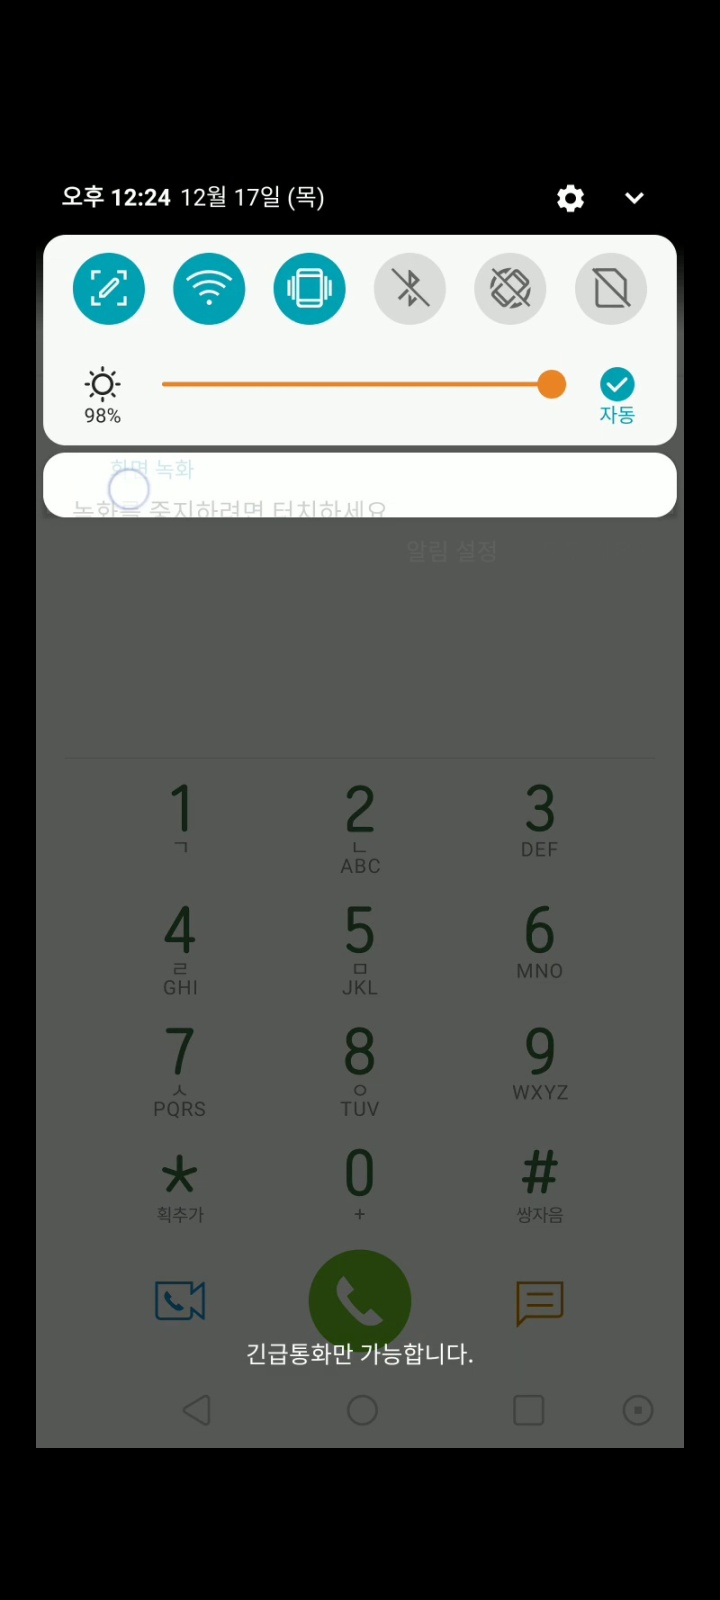Cursor: (108, 466, 153, 511)
